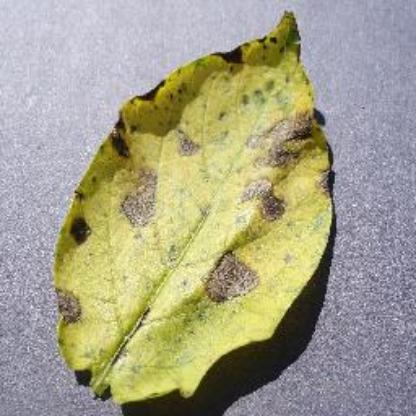Early-Blight: (53, 9, 338, 407)
